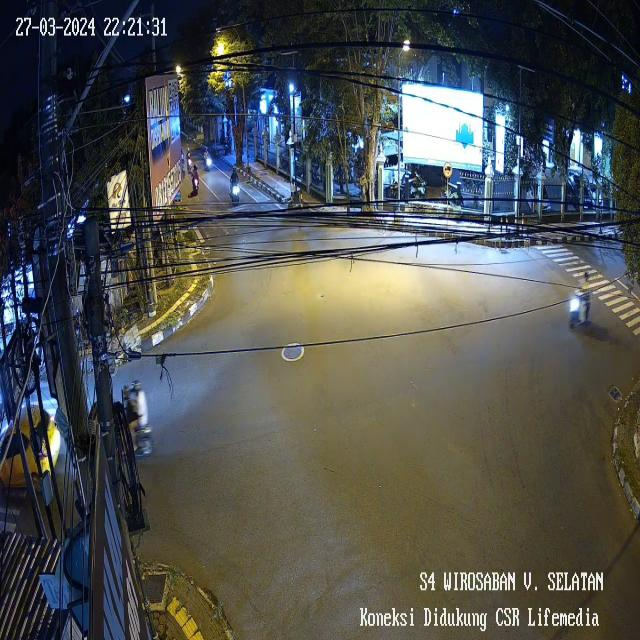car: (0, 392, 64, 500)
motorcycle: (113, 372, 158, 456), (563, 261, 597, 335), (228, 168, 244, 204), (190, 165, 205, 201), (200, 143, 216, 172), (187, 138, 195, 174)
